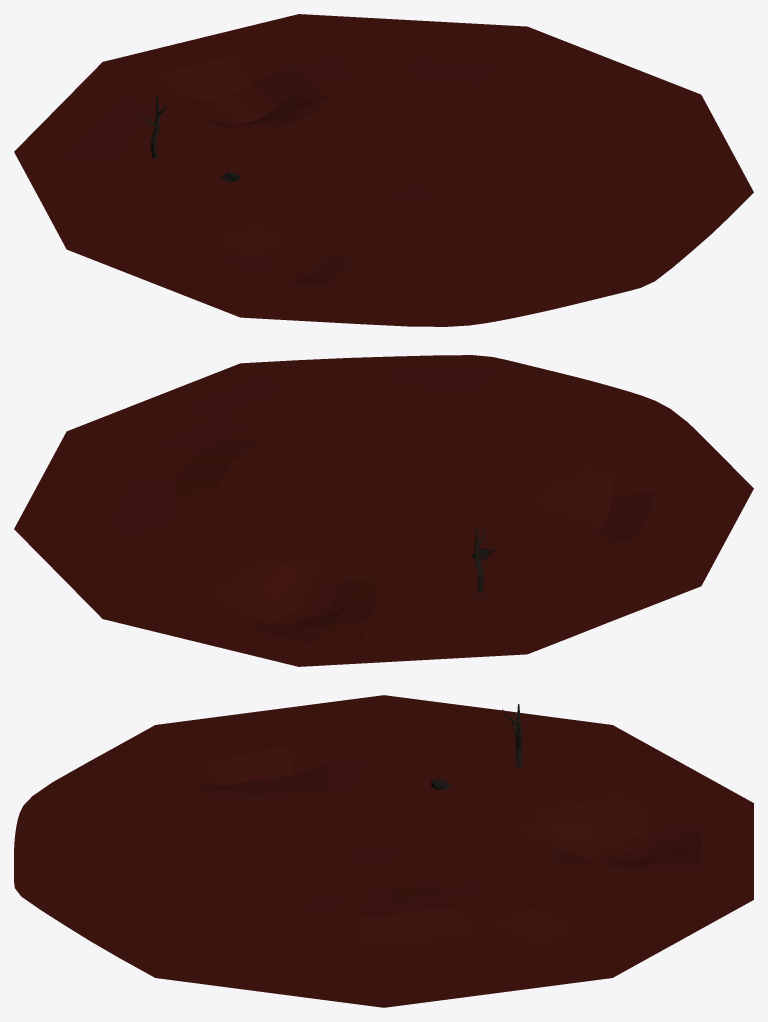
File: Torre Andar 1.fbx
3 views of the same model, one above another, from view 1: azimuth 30°, elevation 25°; view 2: azimuth 150°, elevation 25°; view 3: azimuth 270°, elevation 25° (orthographic).
Visible parts, largest first — view 1: Chao; view 2: Chao; view 3: Chao.
Boxes of the visible parts, box(x1,y1,x2,y2) form: Chao: box(14, 14, 753, 326); Chao: box(14, 355, 753, 666); Chao: box(14, 695, 753, 1007).
Size of the model in its own units: 3976 by 537 by 3976.
